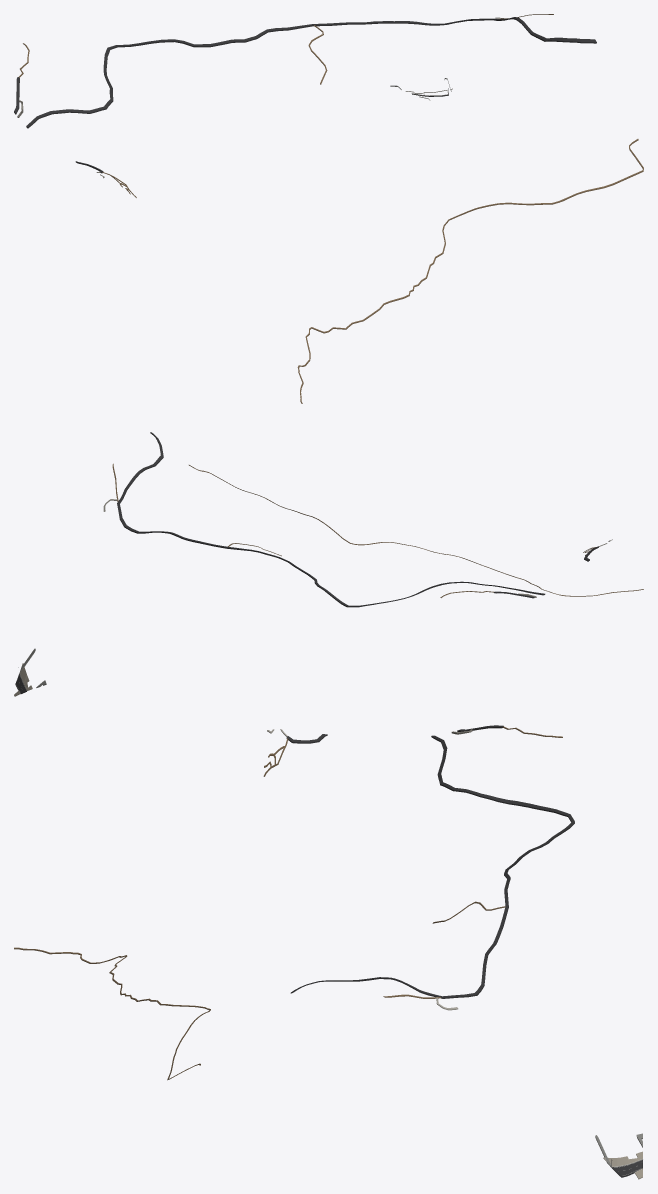
3 views of the same model, one above another, from view 1: azimuth 30°, elevation 25°; view 2: azimuth 150°, elevation 25°; view 3: azimuth 270°, elevation 25° (orthographic). The views are drawn at different scales.
Bounding box in the file's own units: 588 × 213 × 584.
